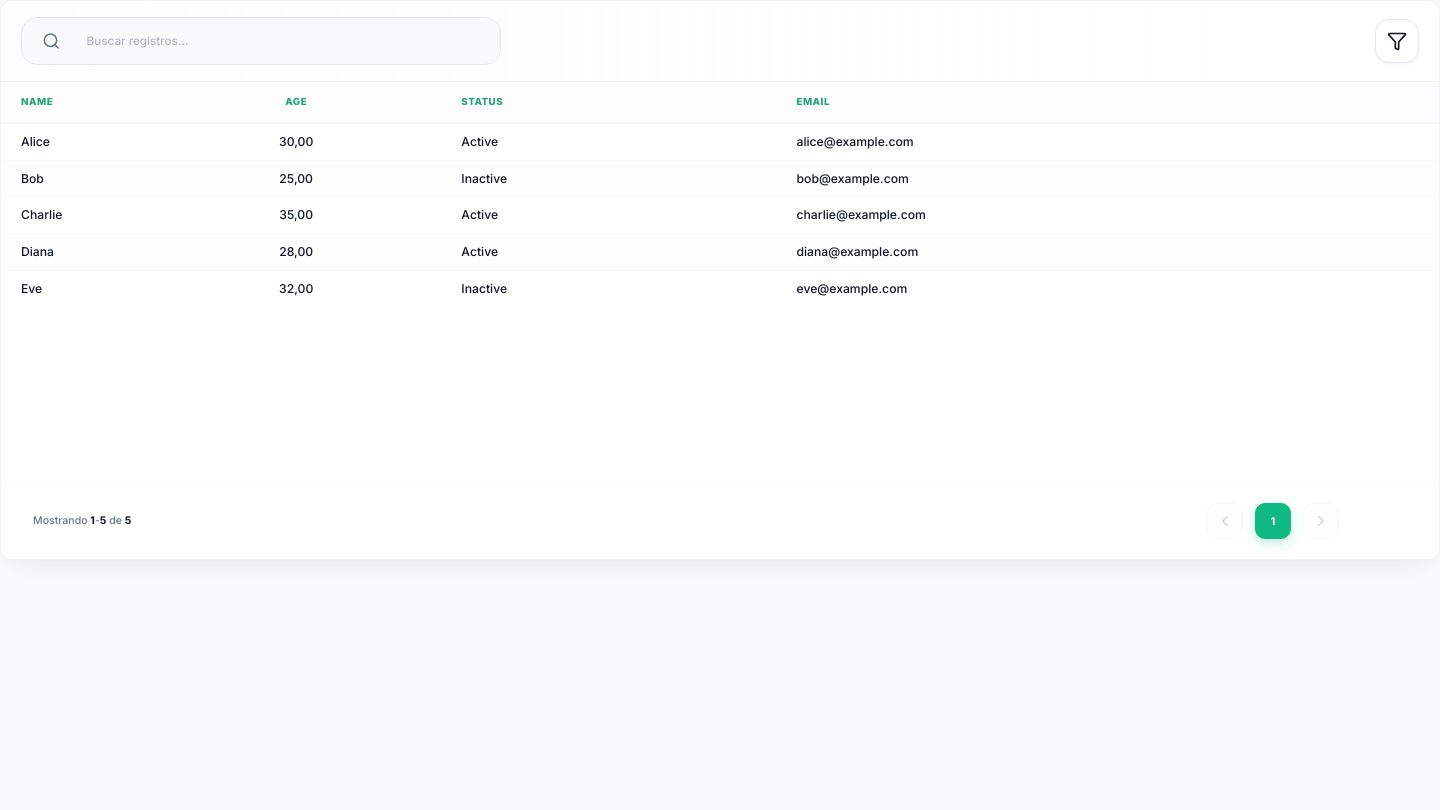
ModernTable Integration Tests › Search and Filtering › filters data case-insensitively
In the field with placeholder "Buscar registros...": point(276, 41) left=72, top=24, right=480, bottom=58, type "alice"
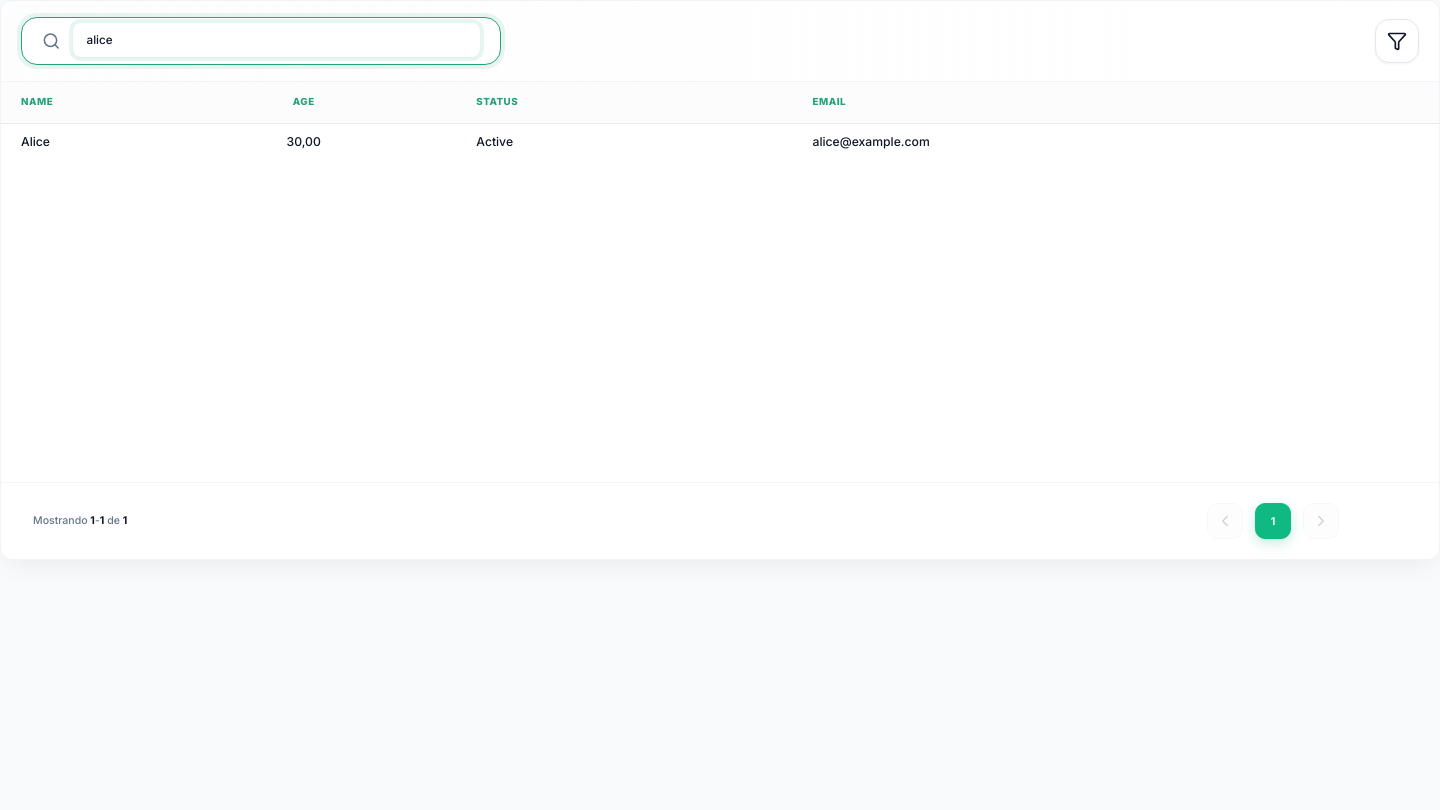
expect the text "Alice" is shown: met, box left=1, top=123, right=151, bottom=160
expect the text "Bob" is gone: met
